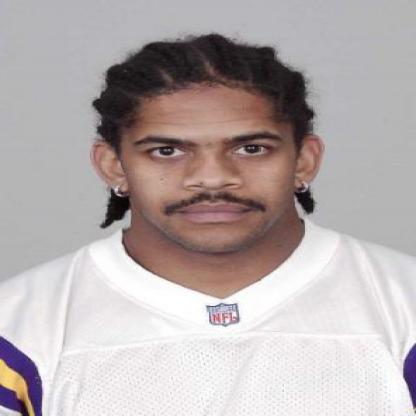face: (120, 41, 302, 255)
